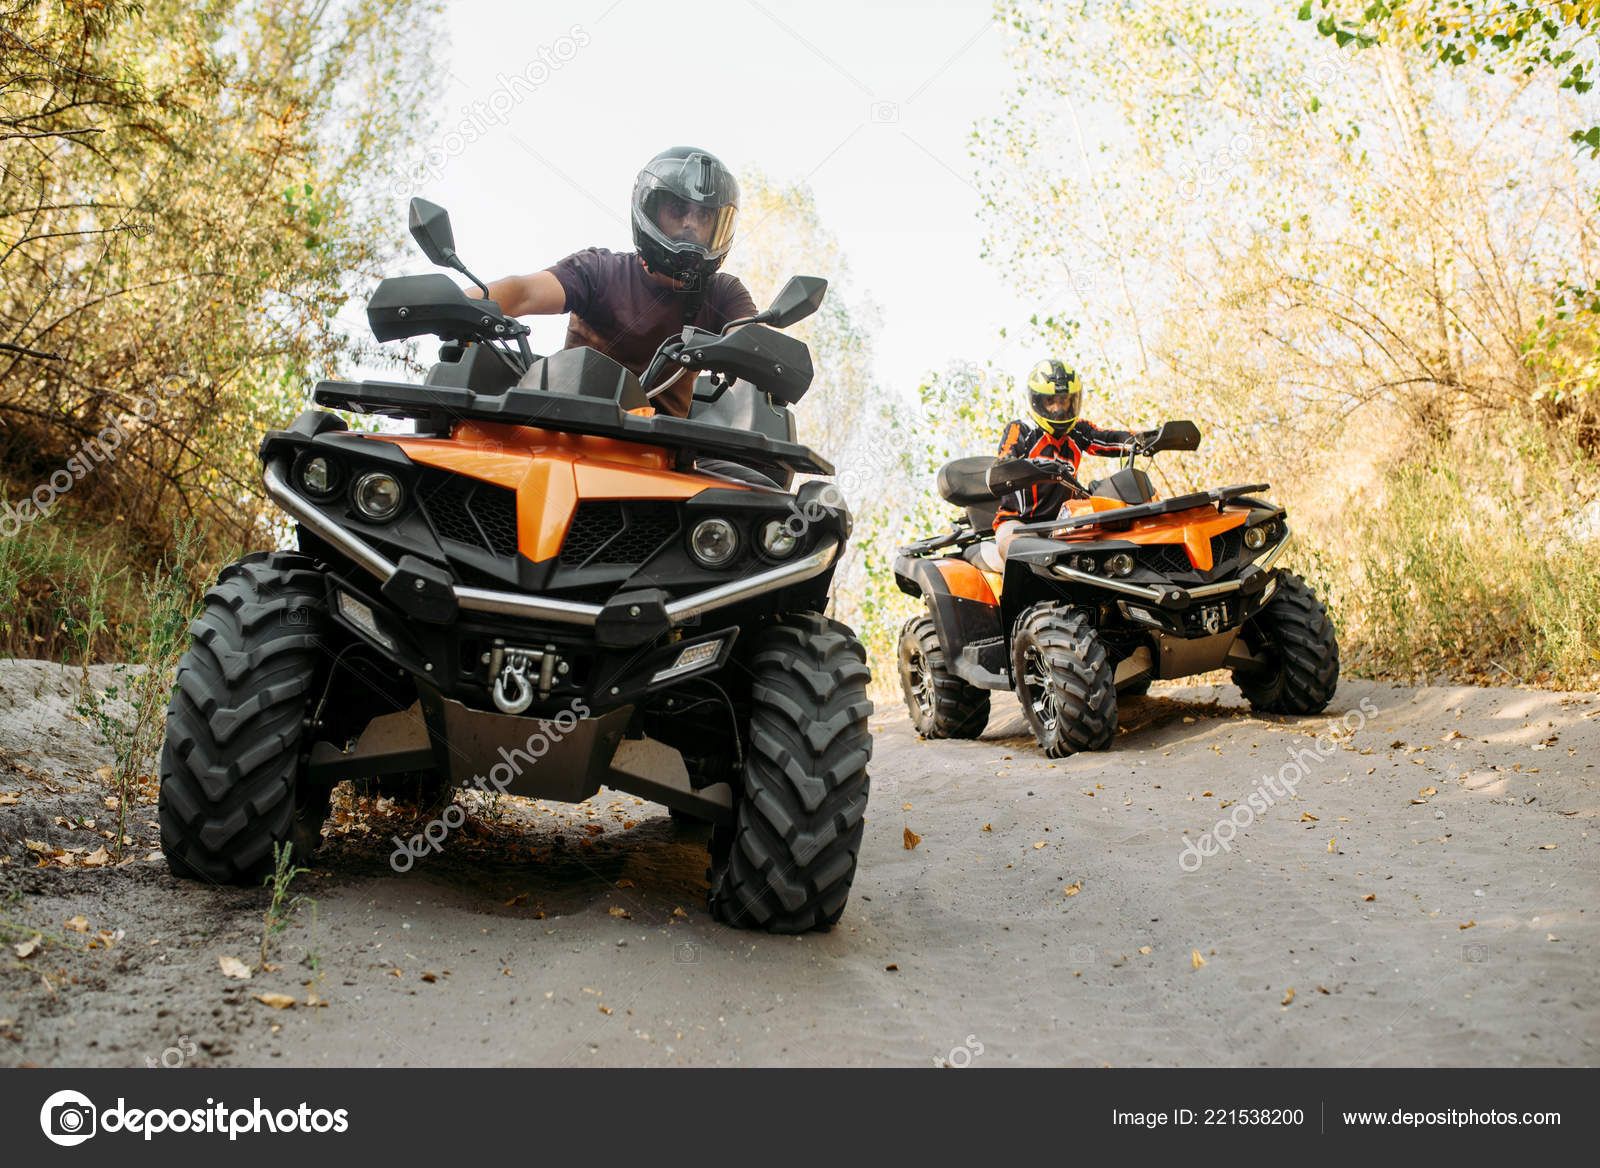helmet: (629, 147, 745, 276), (1024, 357, 1099, 431)
